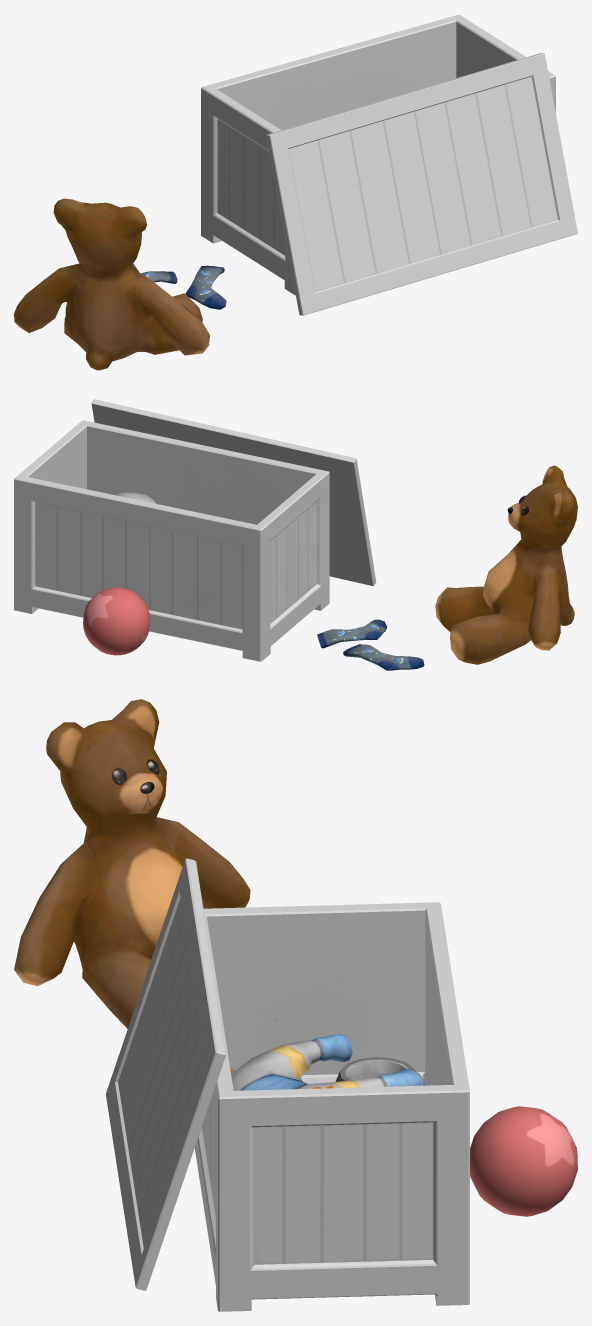
Rendered from ToyBox.fbx.
3 renders of one model, top to bottom at view 1: azimuth 30°, elevation 25°; view 2: azimuth 150°, elevation 25°; view 3: azimuth 270°, elevation 25°, orthographic. The views are drawn at different scales.
Parts seen in each view (by area): view 1: Box_Lid, Box_Base, Bear, Sock; view 2: Box_Base, Bear, Box_Lid, Ball1, Sock1, Sock; view 3: Box_Base, Bear, Box_Lid, Ball1, SpaceDogRetop, DogBowl.
Part boxes in pixels (x1=…): Box_Lid: x1=266, y1=53, x2=577, y2=315; Box_Base: x1=201, y1=14, x2=555, y2=295; Bear: x1=14, y1=198, x2=209, y2=370; Sock: x1=185, y1=265, x2=226, y2=309; Box_Base: x1=14, y1=420, x2=329, y2=661; Bear: x1=435, y1=465, x2=577, y2=664; Box_Lid: x1=91, y1=399, x2=376, y2=585; Ball1: x1=83, y1=587, x2=150, y2=655; Sock1: x1=343, y1=644, x2=424, y2=670; Sock: x1=317, y1=619, x2=386, y2=648; Box_Base: x1=194, y1=902, x2=469, y2=1311; Bear: x1=14, y1=699, x2=250, y2=1028; Box_Lid: x1=105, y1=858, x2=225, y2=1290; Ball1: x1=470, y1=1106, x2=577, y2=1216; SpaceDogRetop: x1=230, y1=1034, x2=424, y2=1090; DogBowl: x1=335, y1=1057, x2=415, y2=1081.
Size of the model in its own units: 1.78 by 0.5796 by 1.12.
